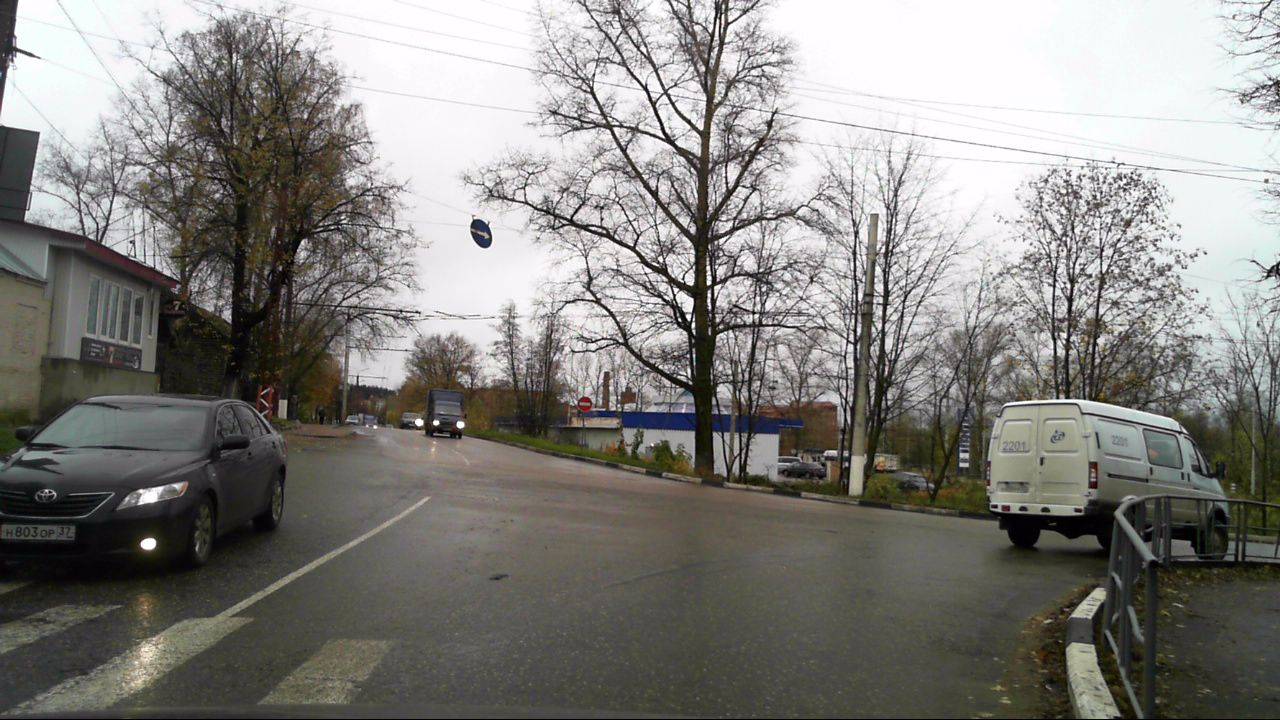Turn Right: (470, 218, 493, 248)
